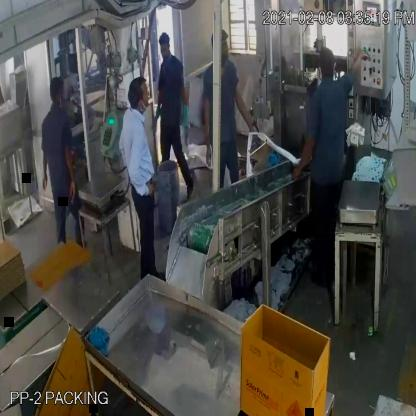glove: (172, 74, 194, 151), (148, 81, 162, 138)
no_glove: (287, 120, 319, 180), (57, 128, 79, 214), (124, 132, 148, 205), (229, 80, 254, 139), (199, 92, 215, 180), (31, 129, 51, 197), (345, 42, 369, 92)
